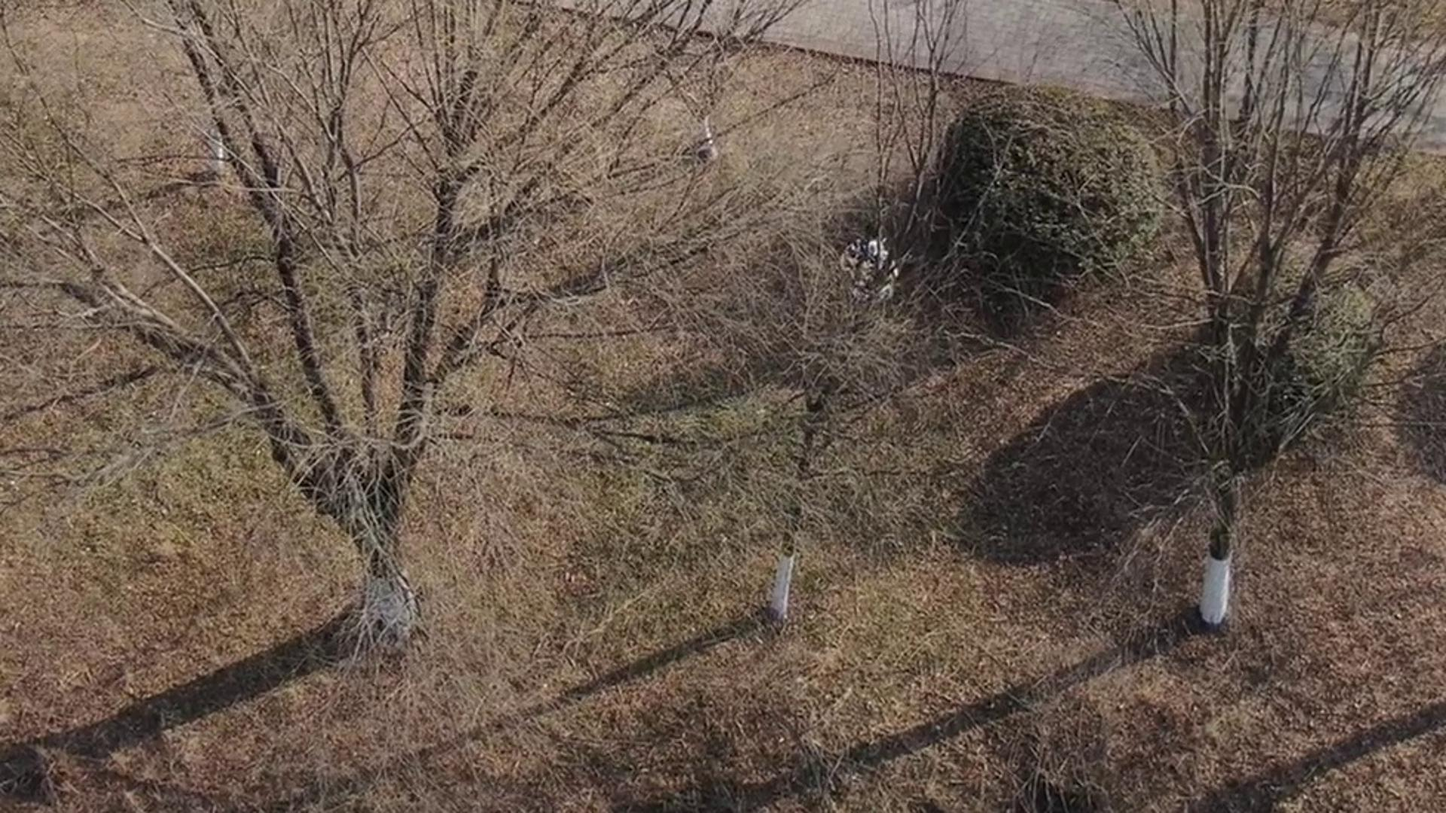human: (836, 233, 902, 355)
